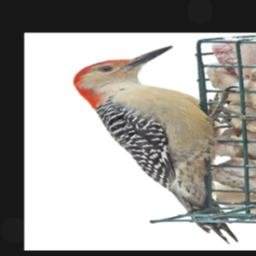Woodpecker: (72, 42, 240, 245)
